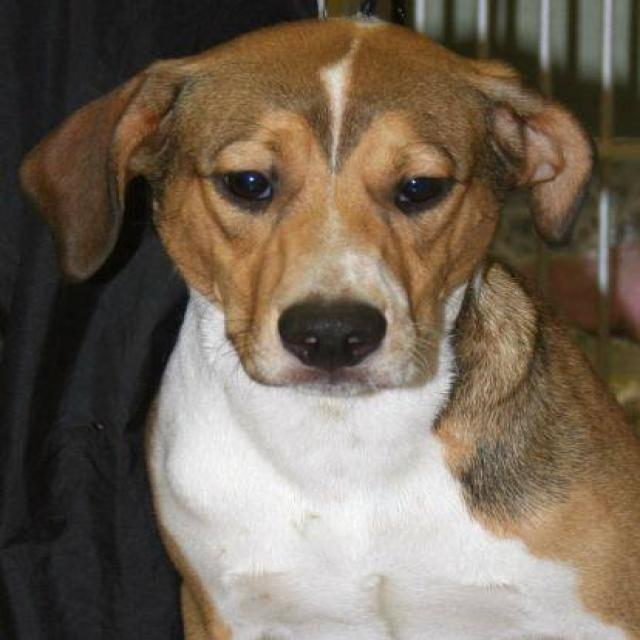dog: (16, 11, 638, 638)
